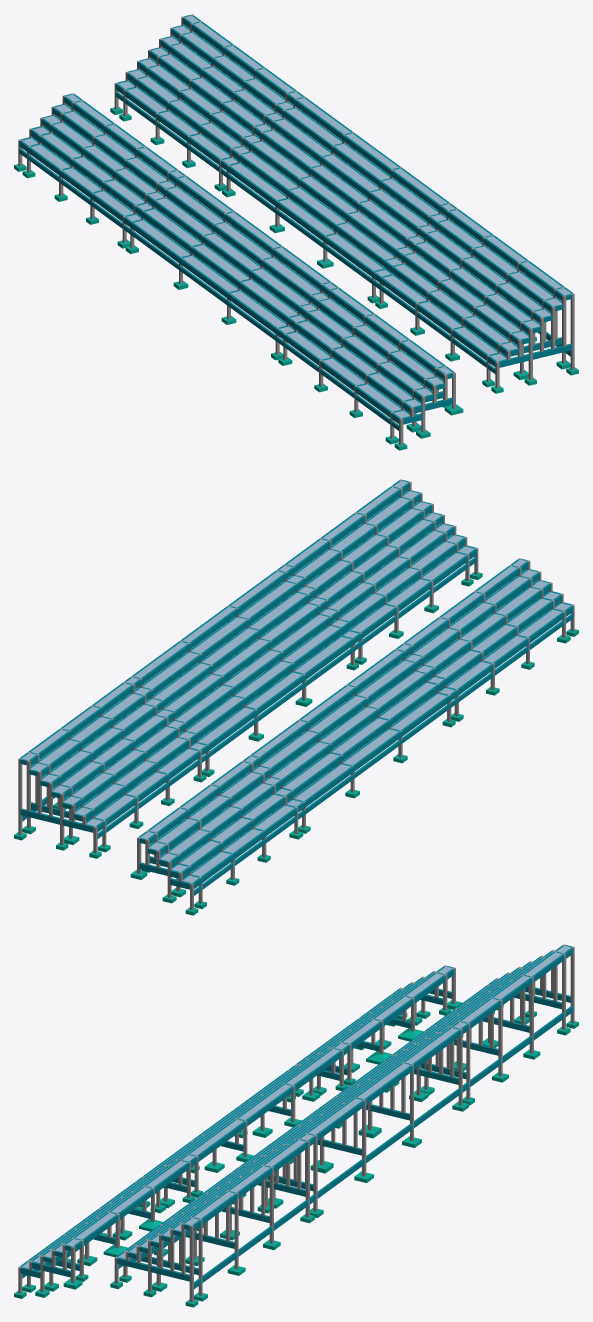
The model's file is estrutura_arquibancada_02.glb.
3 renders of one model, top to bottom at view 1: azimuth 30°, elevation 25°; view 2: azimuth 150°, elevation 25°; view 3: azimuth 330°, elevation 25°, orthographic.
Bounding box in the file's own units: 1379 × 810 × 5065.
